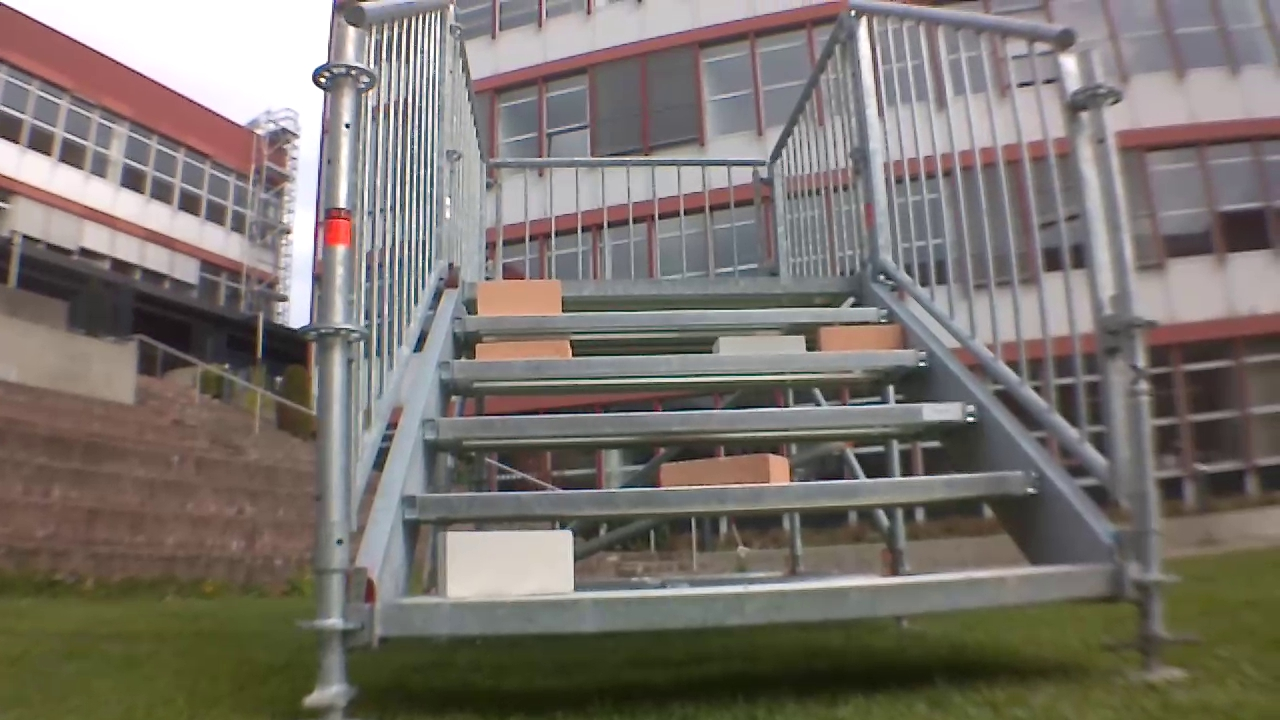brick: (431, 525, 580, 599), (657, 461, 795, 484), (476, 280, 560, 314), (467, 341, 577, 364), (708, 334, 805, 359), (814, 325, 905, 348), (254, 497, 256, 500)
edge: (384, 560, 1117, 638), (403, 464, 1050, 522), (423, 403, 978, 440), (439, 345, 935, 381), (449, 305, 891, 333), (469, 271, 864, 294)
stairs: (307, 8, 1166, 677)
steps: (354, 277, 1130, 643)
